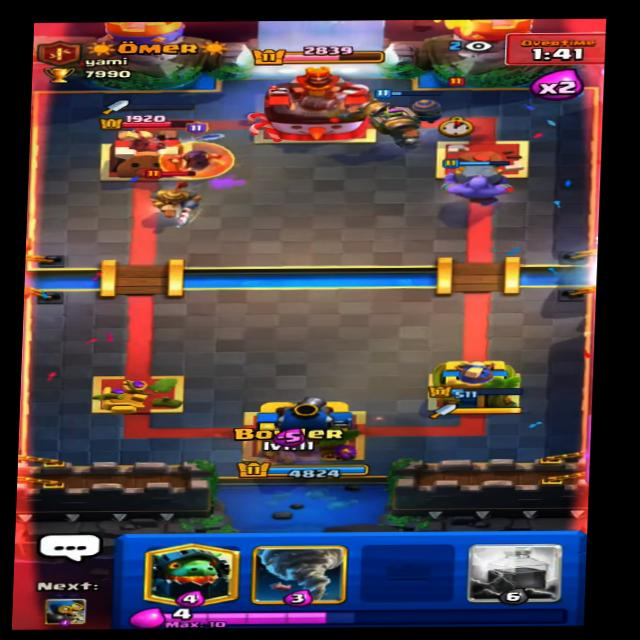evo-wizard: (159, 122, 245, 182)
prince: (147, 167, 205, 227)
